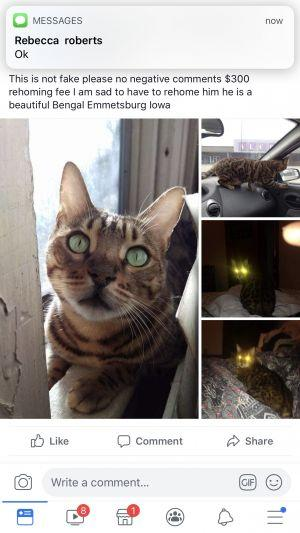bengal: (42, 158, 192, 334)
